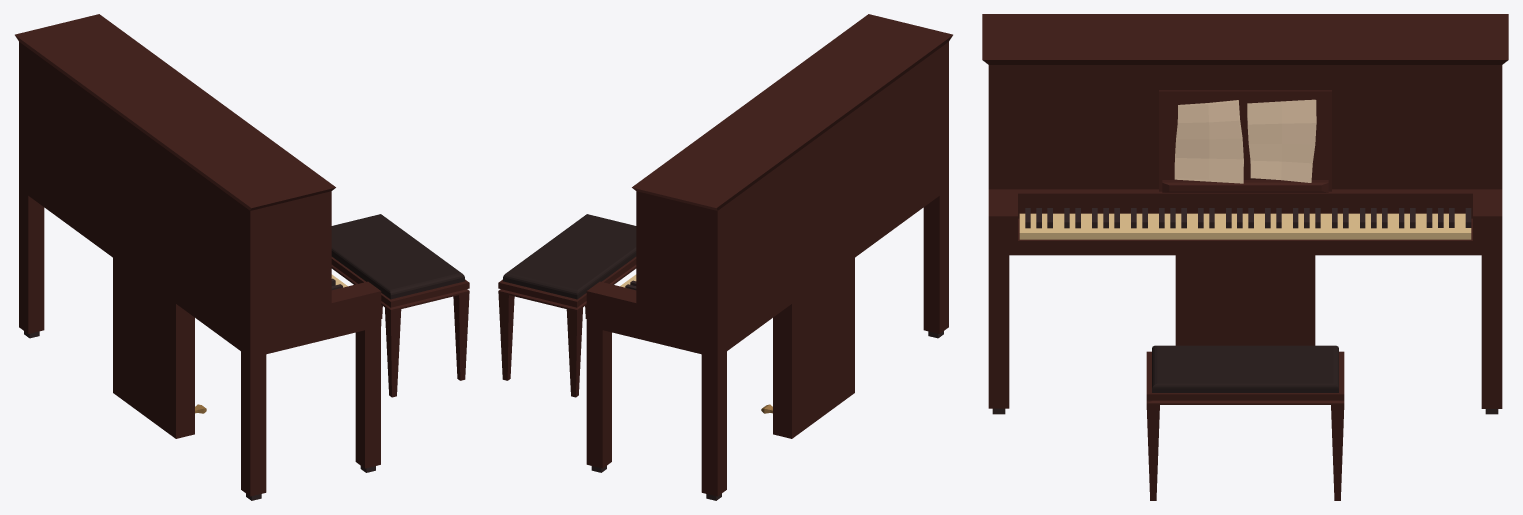
Rendered from piano.fbx.
3 renders of one model, left to right at view 1: azimuth 30°, elevation 25°; view 2: azimuth 150°, elevation 25°; view 3: azimuth 270°, elevation 25°, orthographic. The views are drawn at different scales.
Visible parts, largest first — view 1: pianostool; view 2: pianostool; view 3: pianostool.
Boxes of the visible parts, x1,y1,x2,y2 form: pianostool: [15, 14, 469, 500]; pianostool: [498, 14, 952, 500]; pianostool: [982, 14, 1508, 500].
Size of the model in its own units: 280 by 272 by 394.
